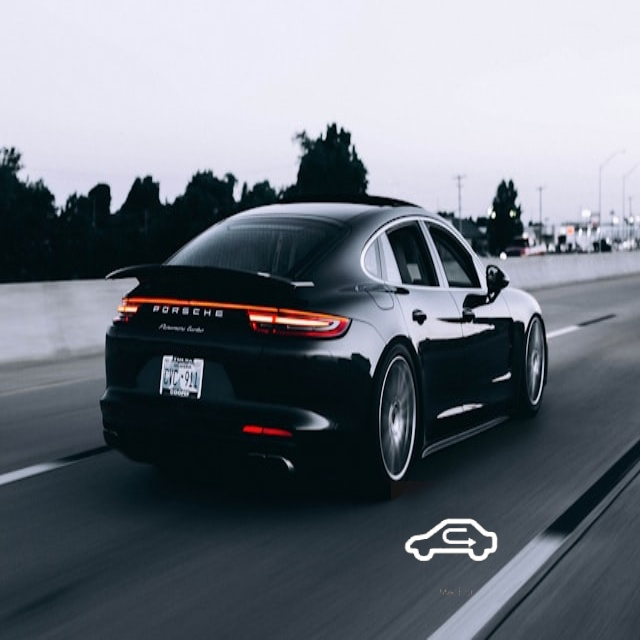symbol: (391, 481, 512, 602)
